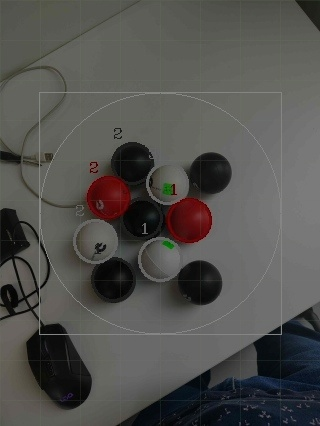Pelota blanca: (0, 63, 68, 160), (0, 254, 38, 318), (135, 236, 182, 283), (71, 217, 118, 264), (175, 260, 222, 307), (145, 161, 190, 206), (295, 0, 320, 33)
Pelota negra: (129, 334, 320, 425), (26, 329, 92, 411), (90, 257, 137, 304), (175, 260, 222, 307), (188, 150, 233, 195), (111, 140, 155, 184), (121, 198, 163, 240)
Pelota roja: (164, 196, 214, 243), (84, 174, 131, 219)
